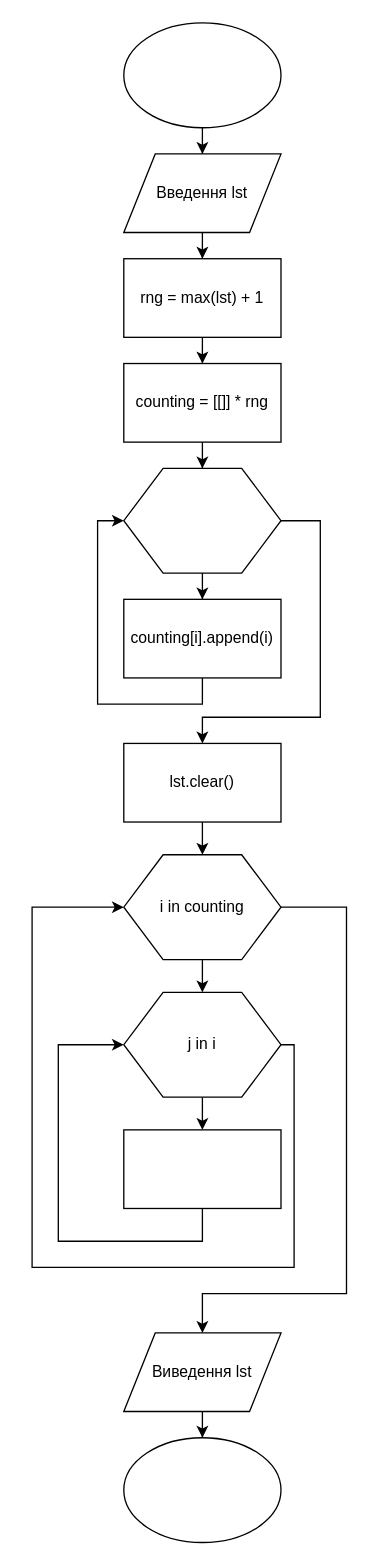
The diagram is 380 pixels wide and 1565 high, and some of its shapes have lost their labels. Each missing label, with the centre of its shape:
"i in lst" belongs at [201,520].
"lst.append(j)" belongs at [201,1168].
"Кінець" belongs at [201,1489].
"Початок" belongs at [201,75].
